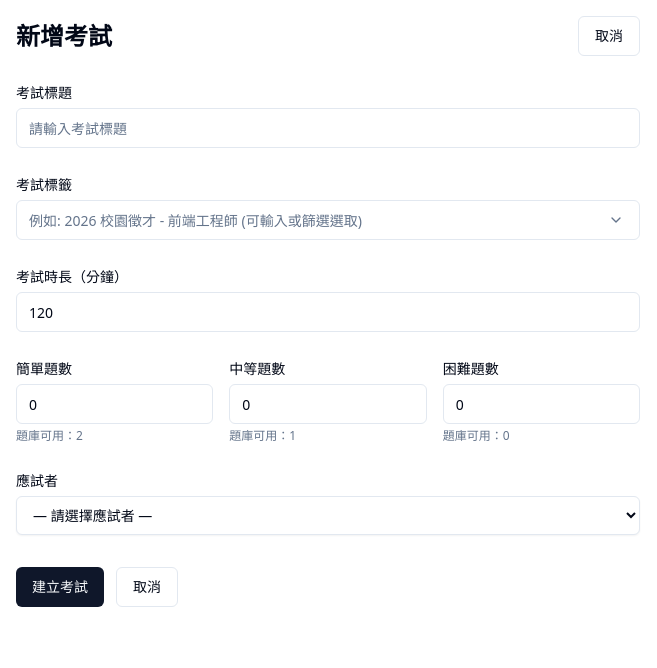
ExamFormPage › renders default submit failure error message if detail is missing
The width and height of the screenshot is (657, 668).
Expected: the heading "新增考試" is shown, [16, 20, 112, 52]
Type "Final Exam" into the field labelled "考試標題" at (328, 128), box [16, 108, 640, 148]
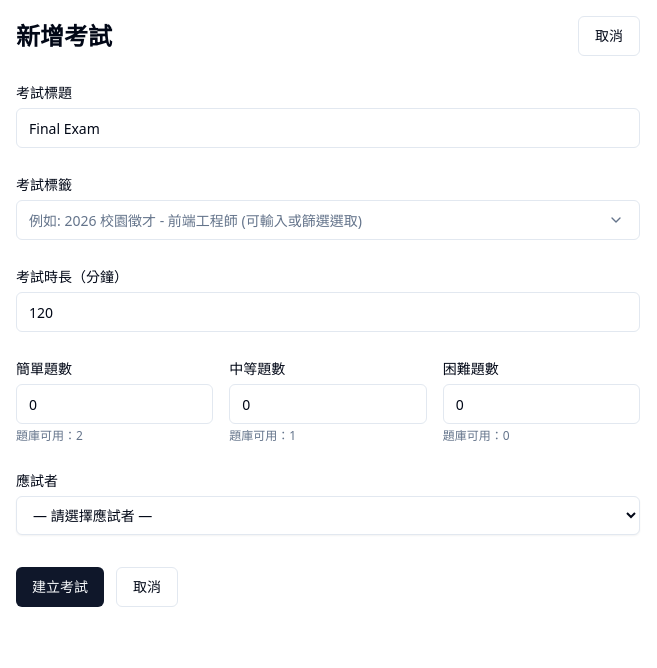
Select "Candidate One" in the dropdown labelled "應試者" at (328, 516), box [16, 496, 640, 535]
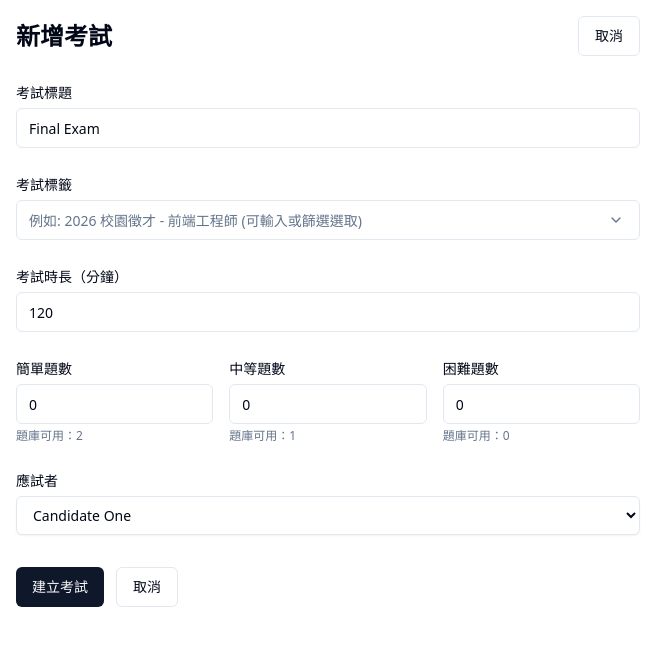
Click the button "建立考試" at (60, 587), box [16, 567, 104, 607]
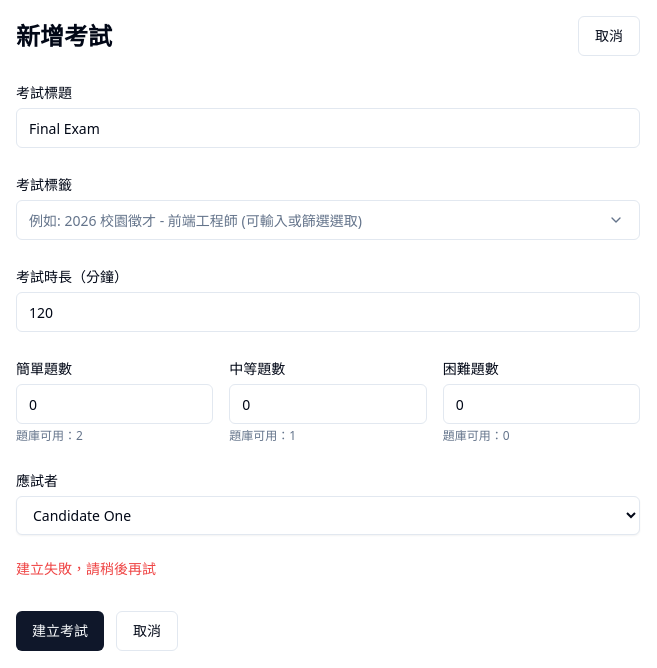
Now the text "建立失敗，請稍後再試" is shown, box [16, 559, 156, 578]
